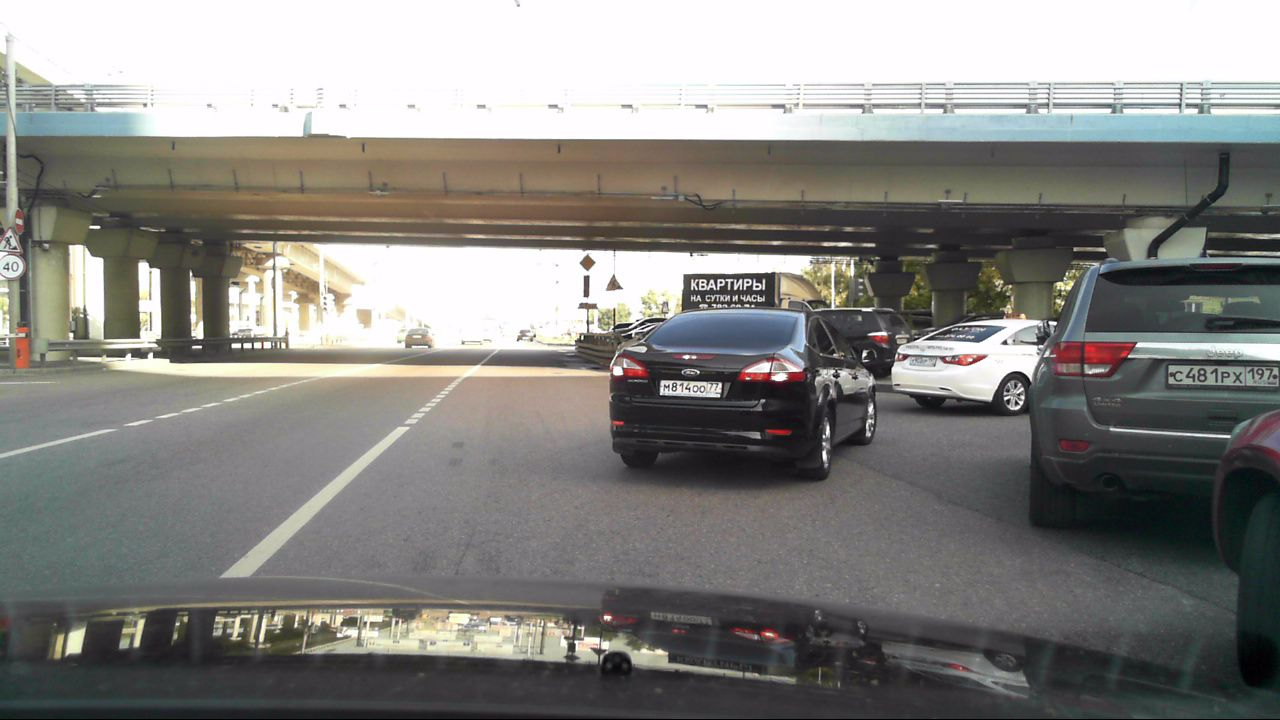speed_warning_40: (0, 256, 27, 281)
